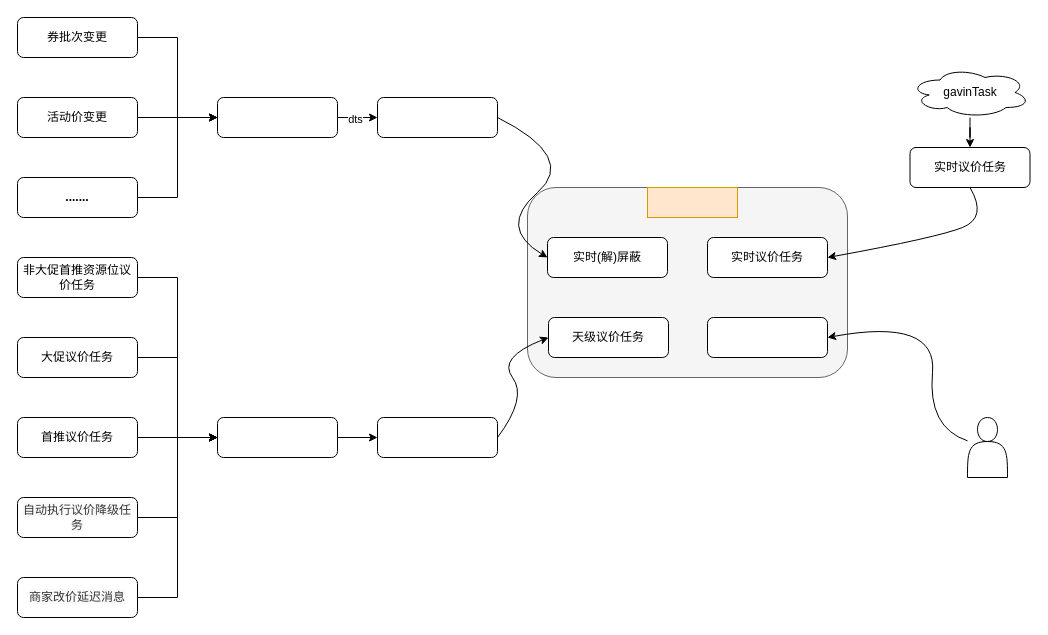
The diagram is 1048 pixels wide and 635 high, and some of its shapes have lost their labels. The centre of each missing label's shape, as x and y in pixels:
(oms)手动议价: [767,337]
天级议价: [437,437]
实时议价: [437,117]
特殊资源位拆分topic: [277,437]
议价流水: [277,117]
议价触发来源: [692,202]
